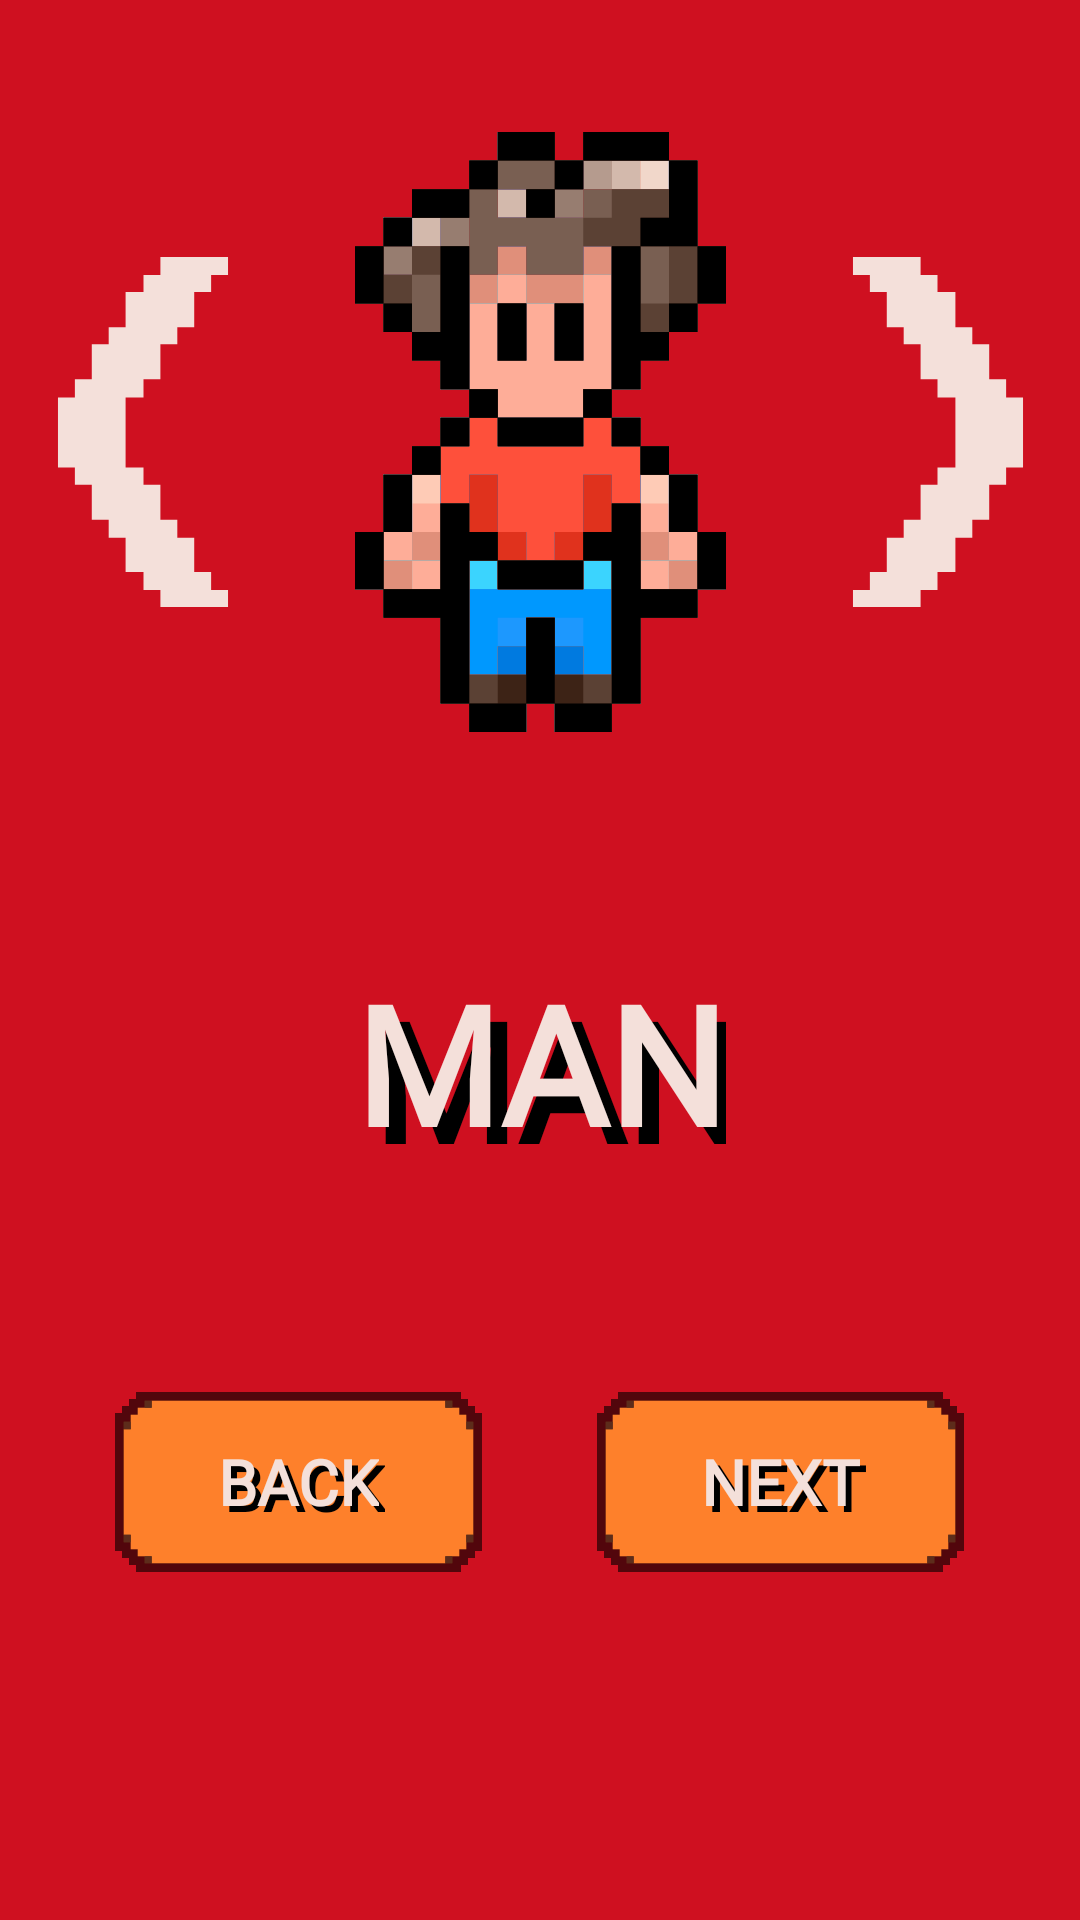

Locate icon controls on the screen. Image size 1080 x 1920, boxes as bbox=(x1, y1, x2, y2).
leftarrow: bbox=(58, 257, 228, 607)
rightarrow: bbox=(853, 257, 1023, 607)
